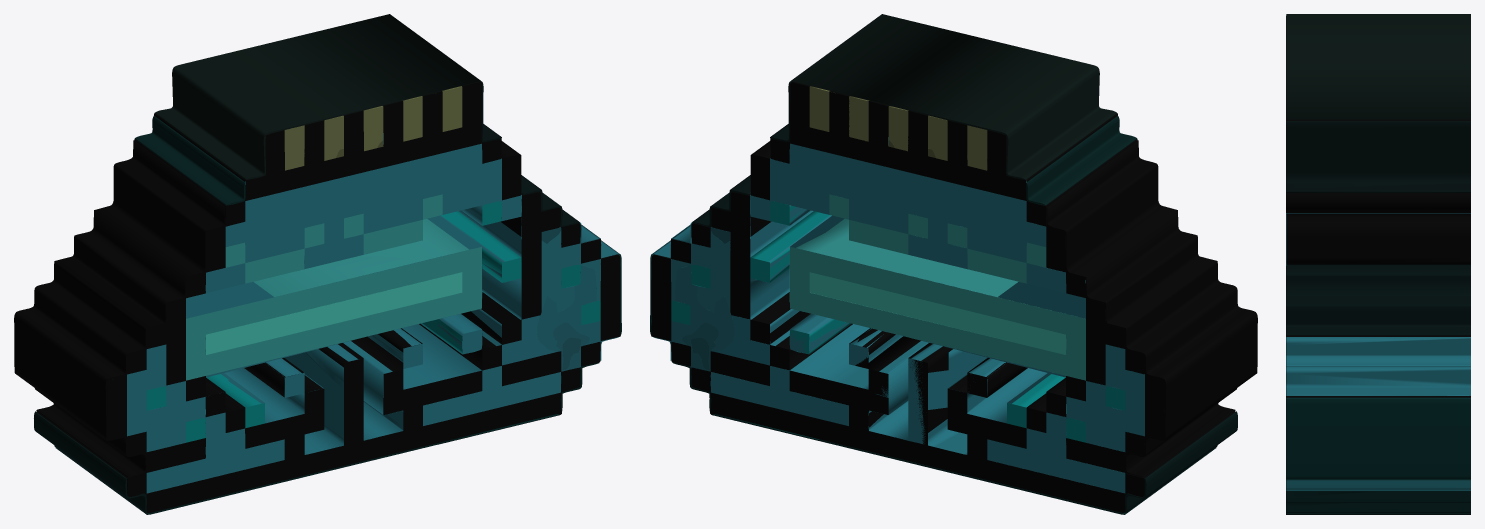
The model's file is Toadz_4481.glb.
The picture shows the model from 3 angles, left to right: view 1: azimuth 30°, elevation 25°; view 2: azimuth 150°, elevation 25°; view 3: azimuth 270°, elevation 25°; orthographic projection.
Visible parts, largest first — view 1: Curve; view 2: Curve; view 3: Curve.
Boxes of the visible parts, x1=… form: Curve: x1=14, y1=14, x2=621, y2=514; Curve: x1=650, y1=14, x2=1257, y2=514; Curve: x1=1286, y1=14, x2=1470, y2=514.
Bounding box in the file's own units: 3.25 × 2.13 × 1.
